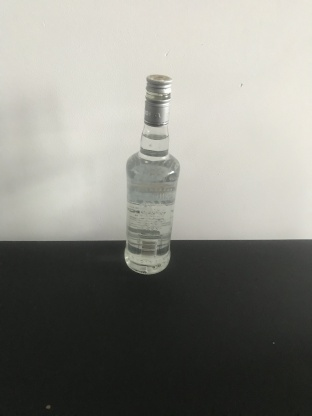nakretka: (142, 72, 173, 127)
